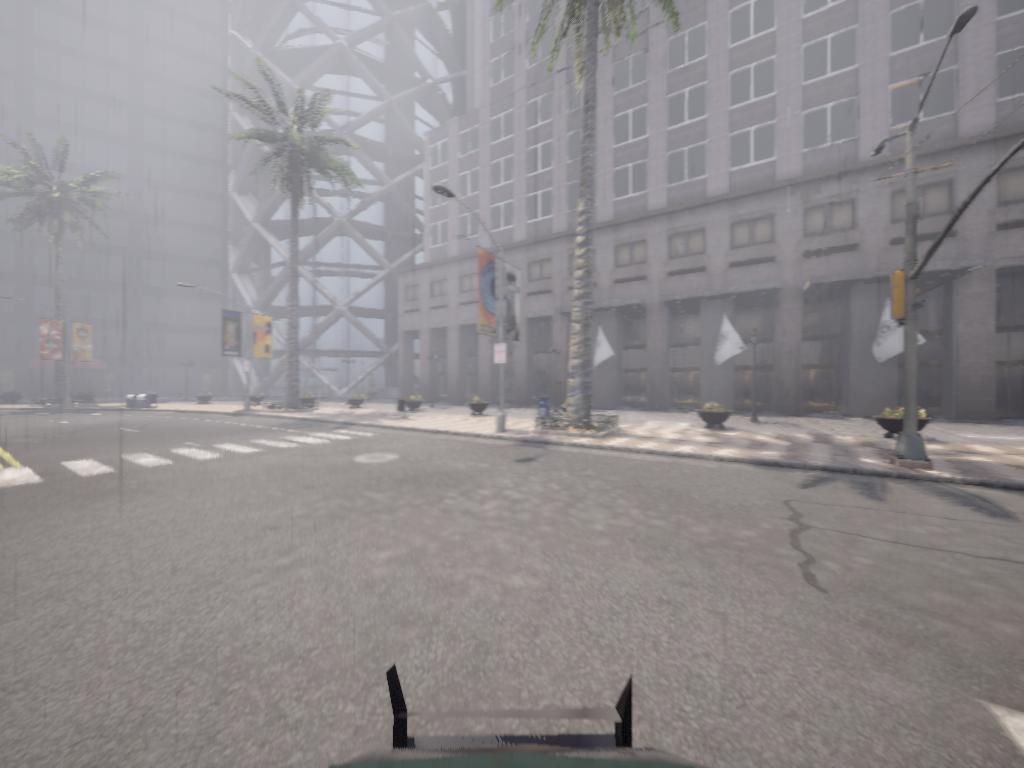traffic_light: (888, 272, 909, 322)
